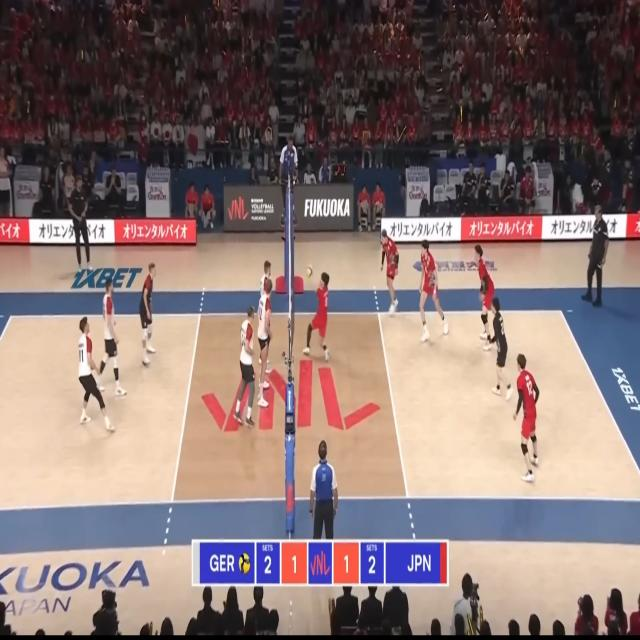ball: (306, 264, 313, 278)
